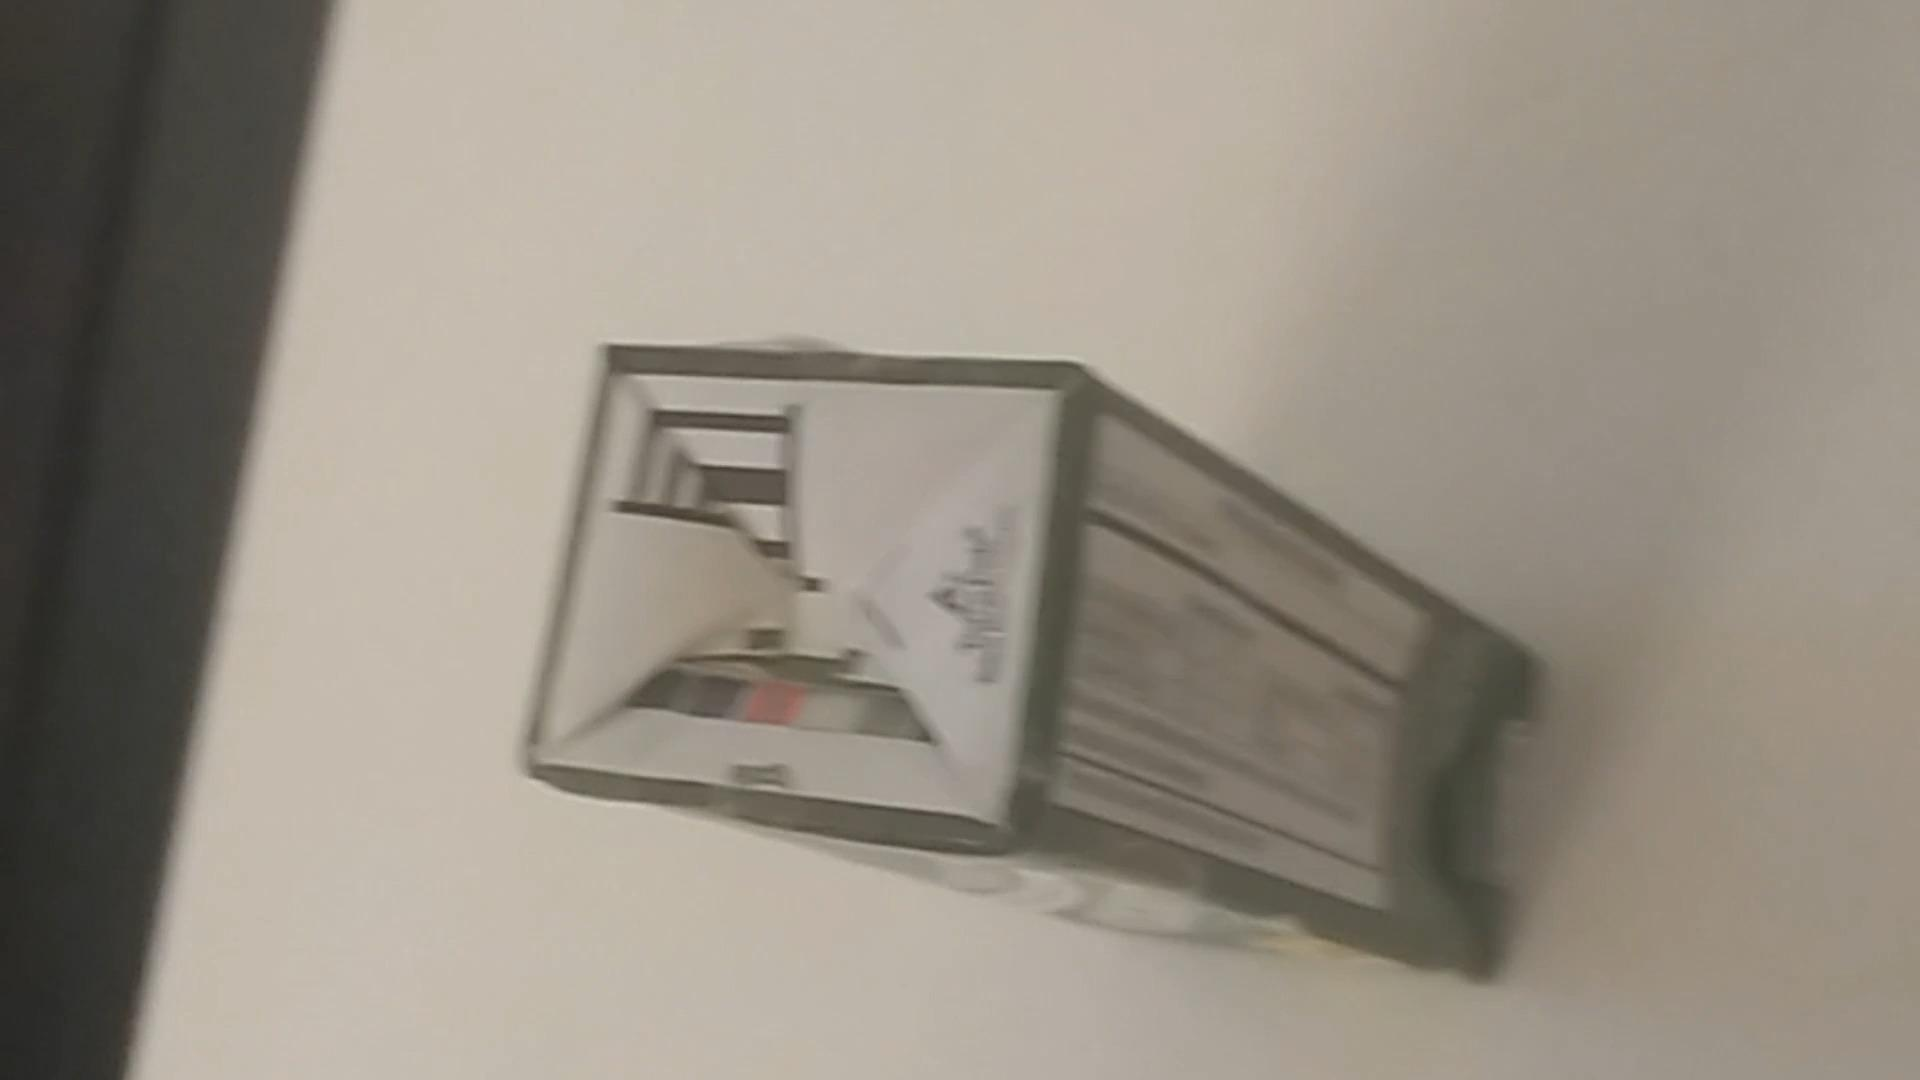coco: (510, 320, 1549, 1007)
